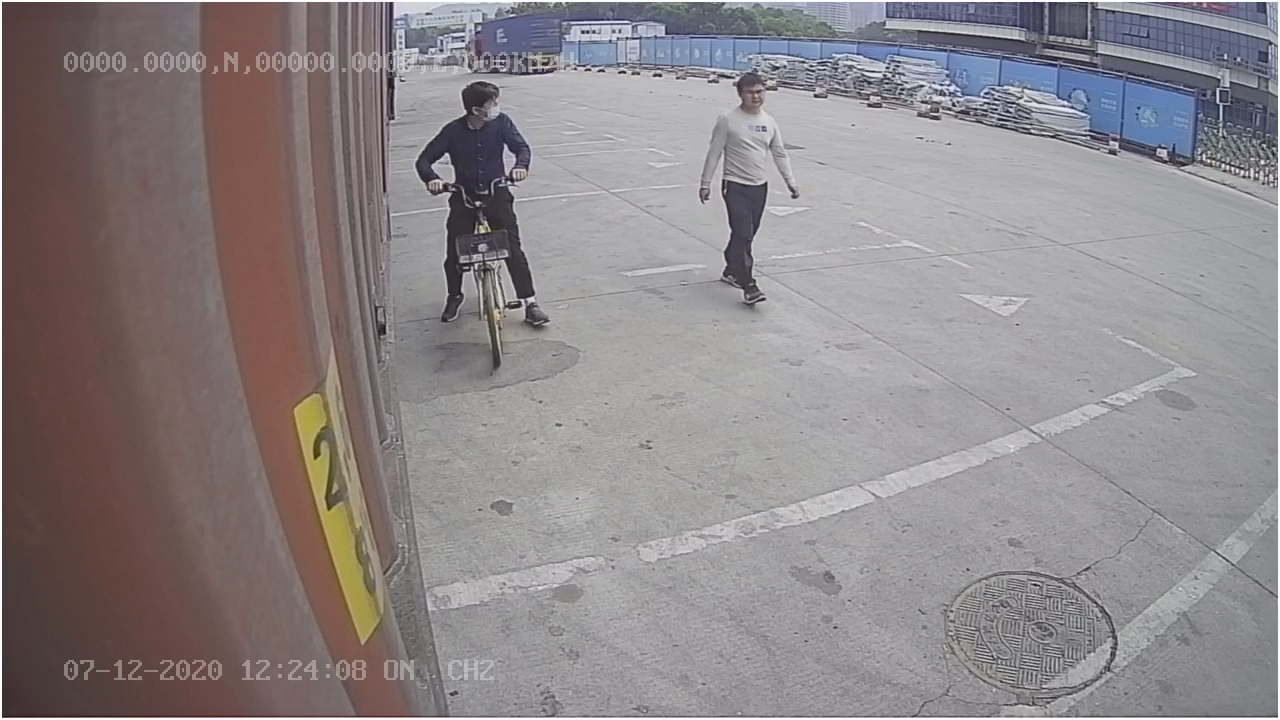person: (690, 69, 805, 312)
